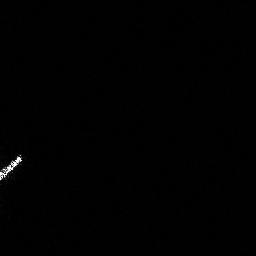ship: (1, 149, 27, 184)
